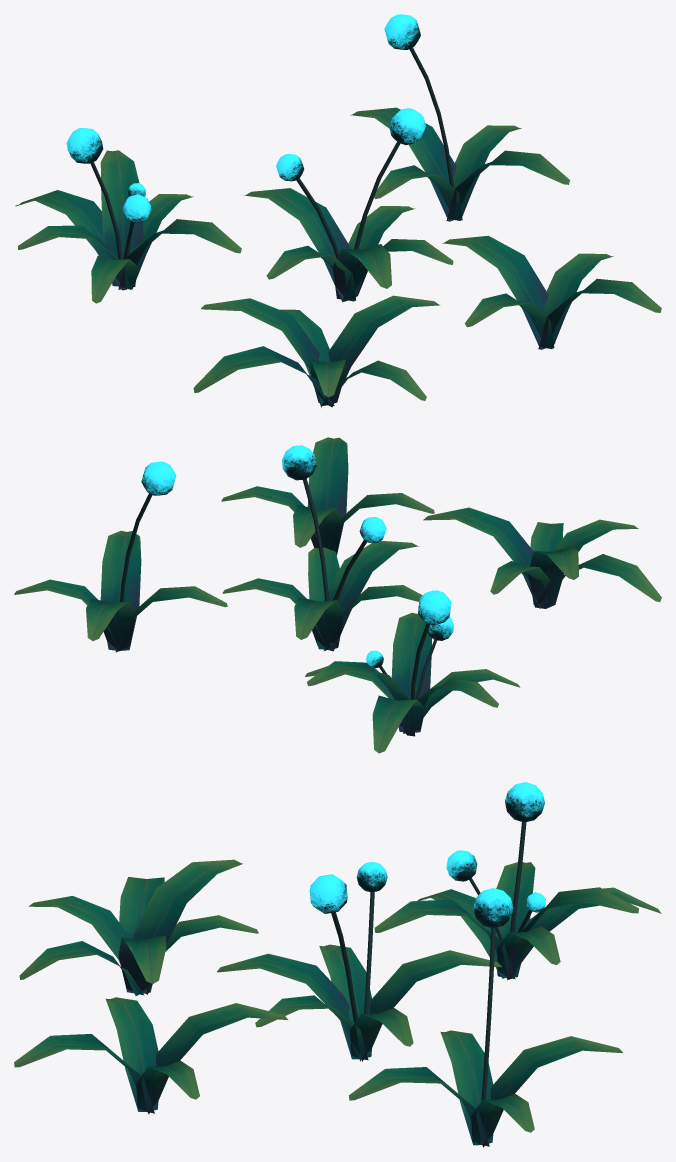
The model's file is glowing_plants-457be5c1.glb.
The picture shows the model from 3 angles, top to bottom: view 1: azimuth 30°, elevation 25°; view 2: azimuth 150°, elevation 25°; view 3: azimuth 270°, elevation 25°; orthographic projection. The views are drawn at different scales.
Visible parts, largest first — view 1: Flow1, Flow3, Leafs1, Flow2, Leafs2; view 2: Flow1, Flow3, Leafs1, Flow2, Leafs2; view 3: Flow3, Flow1, Leafs1, Flow2, Leafs2.
Boxes of the visible parts, bbox=[...] form: Flow1: bbox=[15, 128, 241, 303]; Flow3: bbox=[244, 108, 453, 302]; Leafs1: bbox=[193, 295, 440, 407]; Flow2: bbox=[350, 14, 569, 221]; Leafs2: bbox=[442, 235, 661, 349]; Flow1: bbox=[305, 590, 520, 753]; Flow3: bbox=[222, 445, 422, 651]; Leafs1: bbox=[423, 507, 661, 608]; Flow2: bbox=[14, 461, 227, 652]; Leafs2: bbox=[221, 437, 434, 555]; Flow3: bbox=[217, 862, 501, 1061]; Flow1: bbox=[374, 782, 661, 980]; Leafs1: bbox=[19, 859, 258, 995]; Flow2: bbox=[349, 888, 622, 1147]; Leafs2: bbox=[14, 997, 288, 1114].
Size of the model in its own units: 0.3114 by 0.1263 by 0.3194.
1 material, 1 textured.
